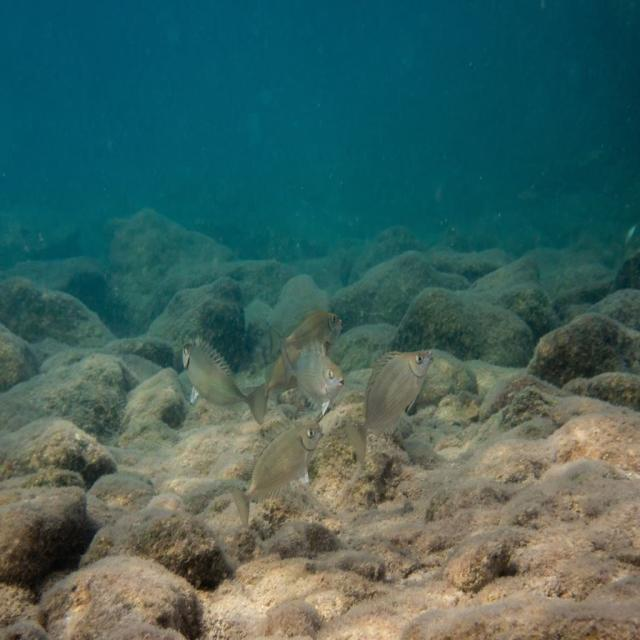Sokar Baligi: (346, 334, 446, 482), (174, 324, 275, 439)
